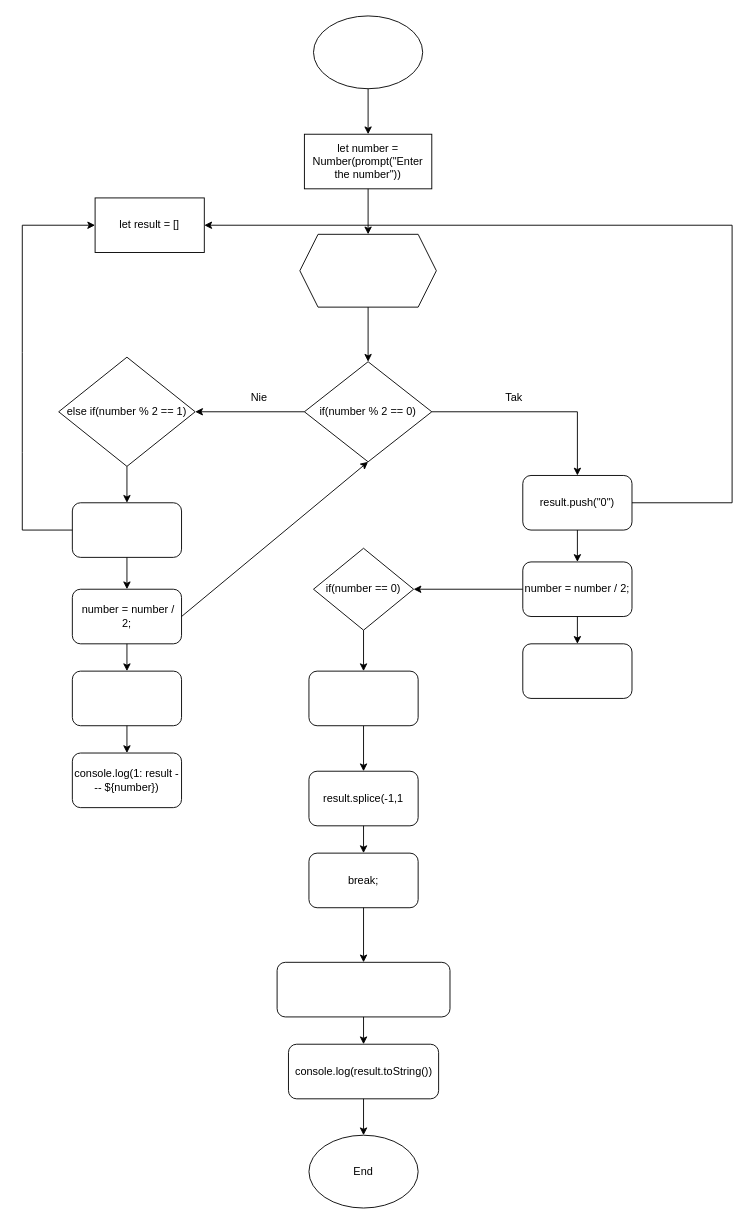
This 755x1224 diagram has some shape labels left out. The shapes that lost their labels are listed below. From the top down, each one's centre as x and y in pixels, then its label:
pixel 368 52: Start
pixel 367 270: for(let i = 0;i < 1000;i++)
pixel 126 529: result.push("1")
pixel 577 670: console.log(0: result --- ${number})
pixel 126 698: number = Math.floor(number)
pixel 363 698: console.log(result)
pixel 363 989: console.log(result.reverse())
